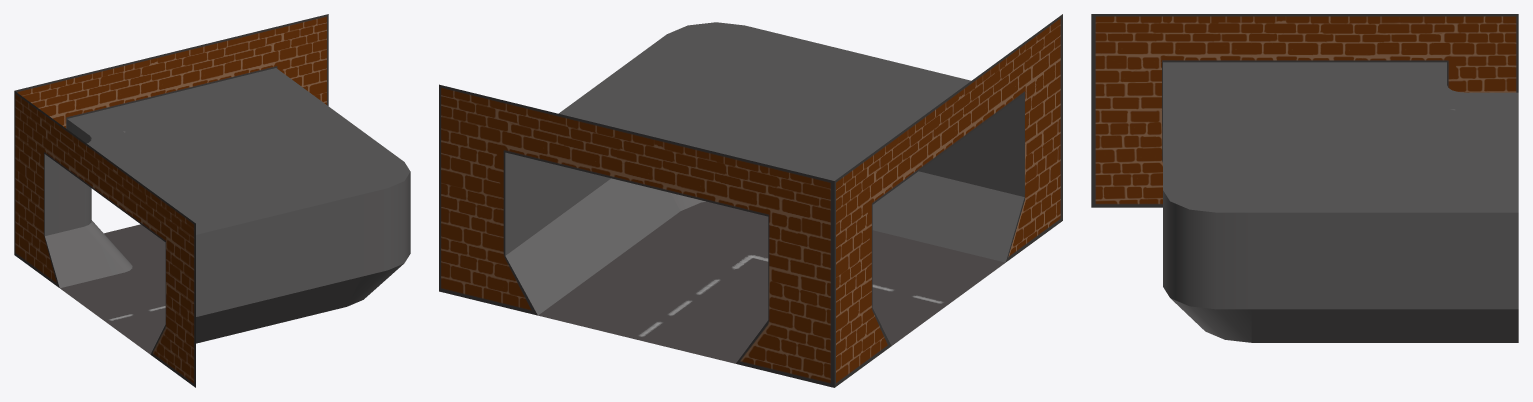
Rendered from bochttunnelmet 1.fbx.
The picture shows the model from 3 angles, left to right: view 1: azimuth 30°, elevation 25°; view 2: azimuth 150°, elevation 25°; view 3: azimuth 270°, elevation 25°; orthographic projection. The views are drawn at different scales.
Parts seen in each view (by area): view 1: bochtunnelmet; view 2: bochtunnelmet; view 3: bochtunnelmet.
Boxes of the visible parts, x1,y1,x2,y2 form: bochtunnelmet: (14, 14, 410, 387); bochtunnelmet: (439, 14, 1062, 387); bochtunnelmet: (1091, 14, 1518, 342).
Bounding box in the file's own units: 22.89 × 11.45 × 22.89.
